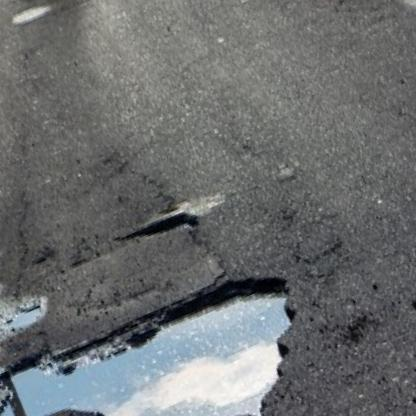pothole: (0, 249, 336, 416), (111, 201, 201, 258)
